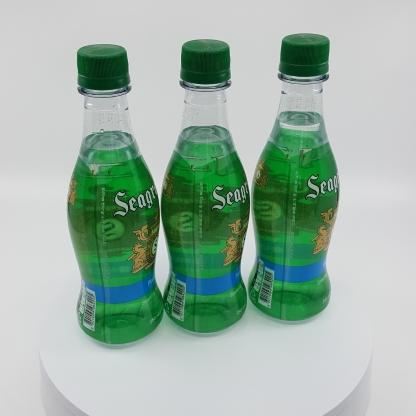--------350ML: (67, 44, 164, 347), (161, 39, 250, 335), (250, 33, 340, 324)
